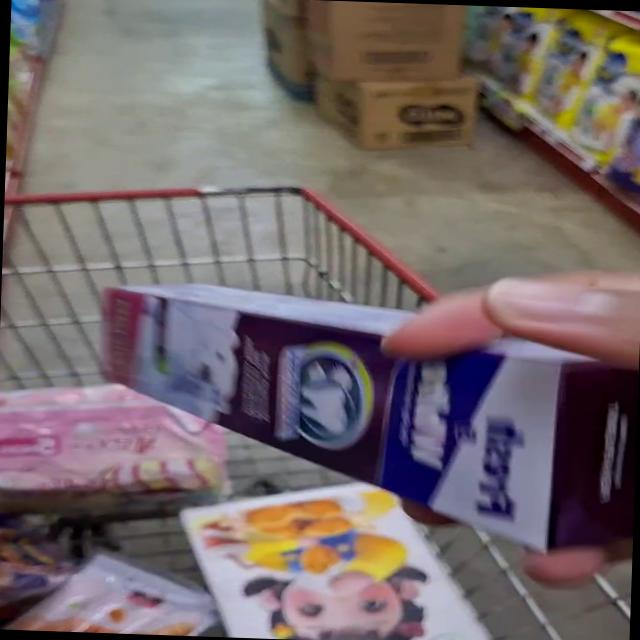Tisu: (174, 474, 354, 628), (218, 566, 534, 640), (266, 510, 478, 616)
Ubat Gigi: (321, 288, 640, 530), (68, 280, 362, 432)
